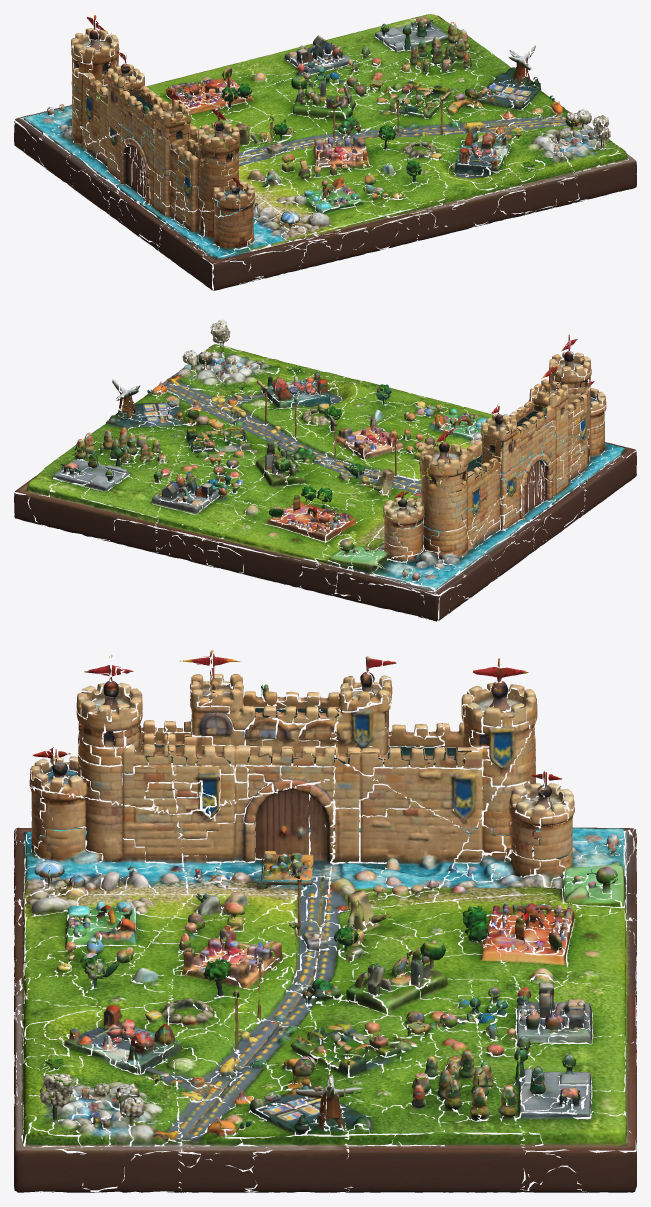
Rendered from town.glb.
3 views of the same model, one above another, from view 1: azimuth 30°, elevation 25°; view 2: azimuth 150°, elevation 25°; view 3: azimuth 270°, elevation 25° (orthographic). The views are drawn at different scales.
Visible parts, largest first — view 1: tripo_node_e2f701f3-be3c-4613-af7f-e61049c14f5e; view 2: tripo_node_e2f701f3-be3c-4613-af7f-e61049c14f5e; view 3: tripo_node_e2f701f3-be3c-4613-af7f-e61049c14f5e.
Part boxes in pixels (bbox=[...]): tripo_node_e2f701f3-be3c-4613-af7f-e61049c14f5e: bbox=[14, 14, 636, 290]; tripo_node_e2f701f3-be3c-4613-af7f-e61049c14f5e: bbox=[14, 319, 636, 621]; tripo_node_e2f701f3-be3c-4613-af7f-e61049c14f5e: bbox=[14, 650, 636, 1192].
Size of the model in its own units: 0.9773 by 0.3435 by 0.7945.
1 material, 1 textured.
